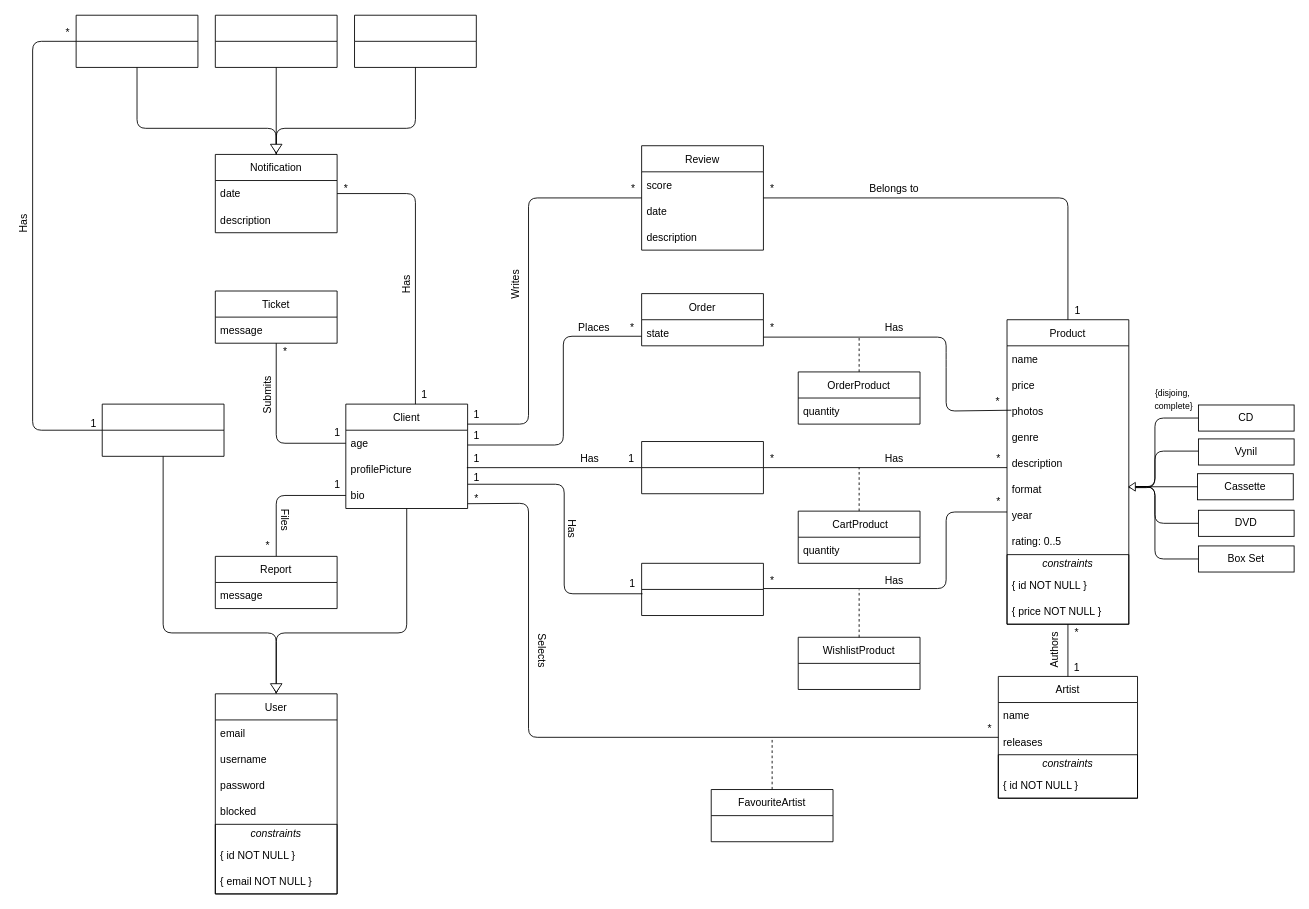
This 1309x909 diagram has some shape labels left out. Each missing label, with the centre of its shape:
Admin: (x=162, y=429)
Cart: (x=702, y=467)
MiscNotif: (x=136, y=40)
OrderNotif: (x=415, y=40)
Wishlist: (x=702, y=589)
WishlistNotif: (x=275, y=40)
